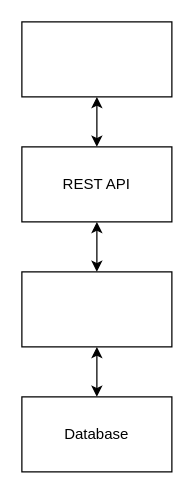
The diagram is 194 pixels wide and 494 high, and some of its shapes have lost their labels. Here are the shapes that lost their labels. From the top down, the centre of each, then its label:
At (x=96, y=59): "Web application UI".
At (x=96, y=309): "Business layer".
